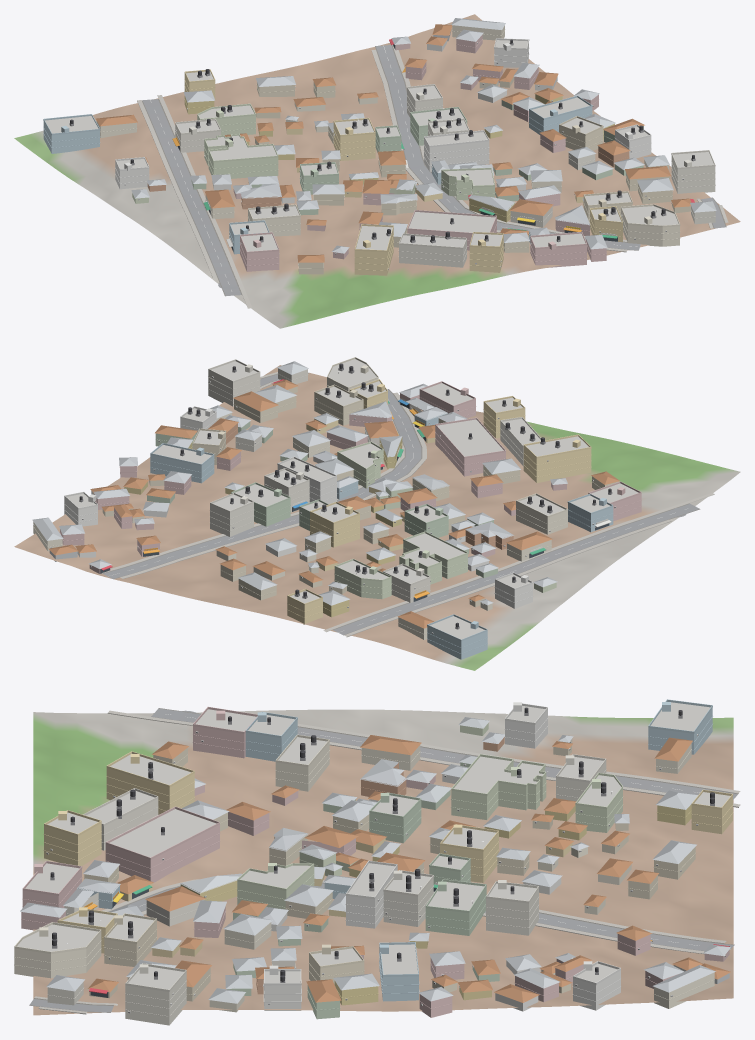
3 renders of one model, top to bottom at view 1: azimuth 30°, elevation 25°; view 2: azimuth 150°, elevation 25°; view 3: azimuth 270°, elevation 25°, orthographic. The views are drawn at different scales.
Visible parts, largest first — view 1: Buildings-col, Terrain-col, Details, Roads-col, Sidewalks-col; view 2: Buildings-col, Terrain-col, Details, Roads-col, Sidewalks-col; view 3: Buildings-col, Terrain-col, Details, Roads-col, Sidewalks-col.
Part boxes in pixels (x1,y1,x2,y2): Buildings-col: (43, 18, 716, 275); Terrain-col: (14, 14, 740, 328); Details: (43, 29, 715, 270); Roads-col: (141, 45, 726, 296); Sidewalks-col: (137, 44, 728, 308); Buildings-col: (32, 359, 641, 659); Terrain-col: (14, 365, 740, 670); Details: (33, 357, 641, 654); Roads-col: (102, 374, 700, 635); Sidewalks-col: (102, 372, 714, 637); Buildings-col: (14, 702, 732, 1025); Terrain-col: (33, 709, 733, 1015); Details: (14, 699, 733, 1016); Roads-col: (29, 708, 737, 1012); Sidewalks-col: (34, 710, 740, 1014).
Bounding box in the file's own units: 271 × 19.46 × 266.
